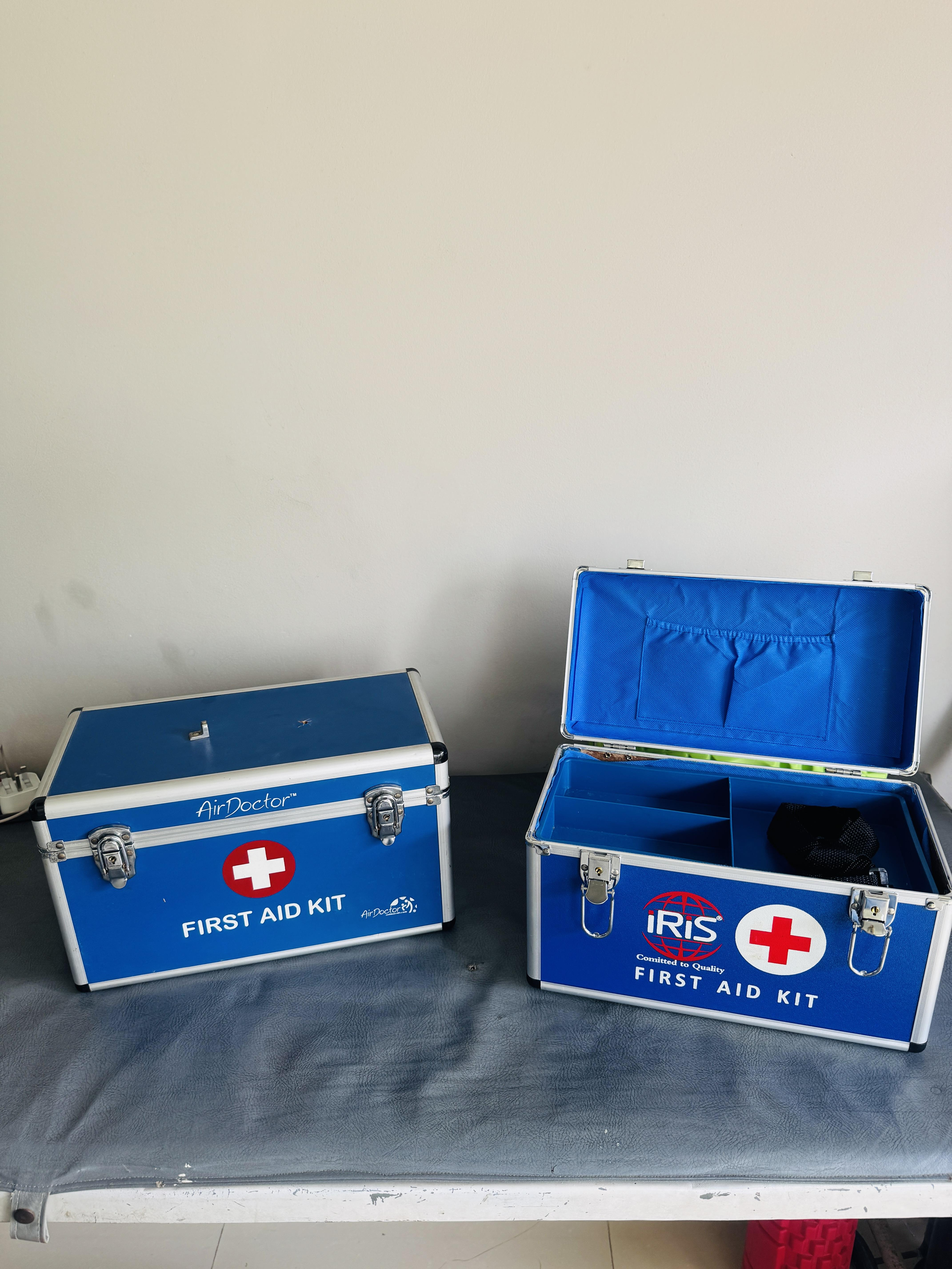FirstAidBox: (517, 523, 952, 1076), (20, 648, 462, 1004)
